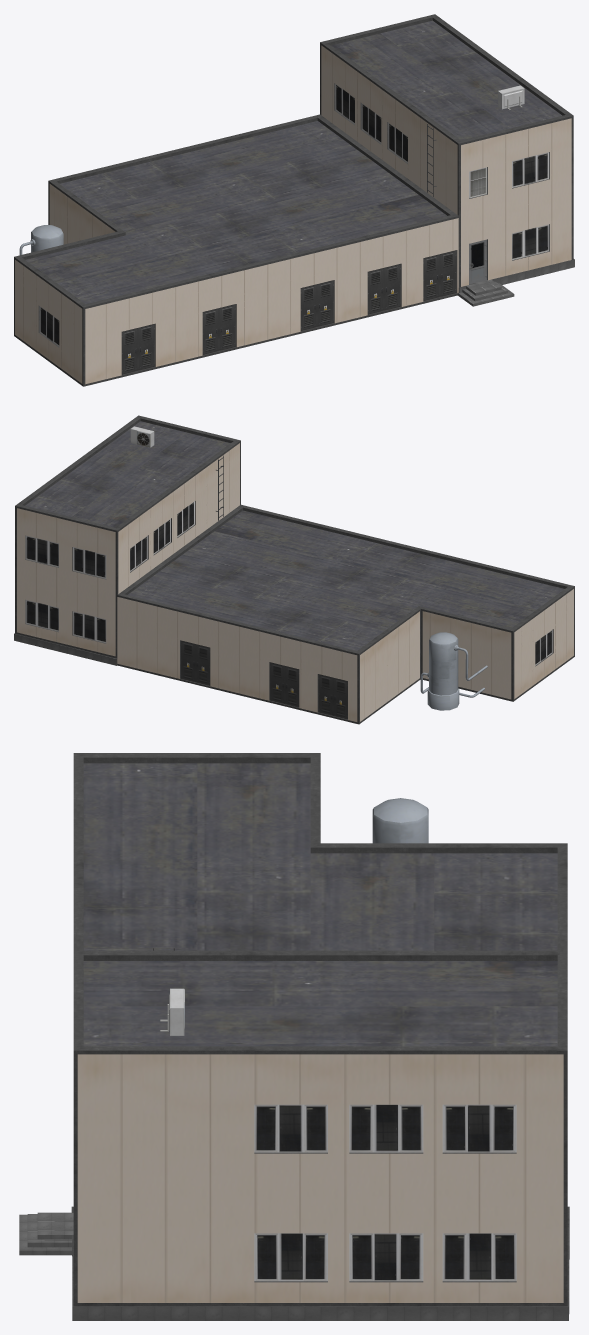
File: plant-building32.glb
3 renders of one model, top to bottom at view 1: azimuth 30°, elevation 25°; view 2: azimuth 150°, elevation 25°; view 3: azimuth 270°, elevation 25°, orthographic. The views are drawn at different scales.
Visible parts, largest first — view 1: Object8935819; view 2: Object8935819; view 3: Object8935819.
Part boxes in pixels (x1,y1,x2,y2): Object8935819: [14, 14, 574, 386]; Object8935819: [14, 415, 574, 724]; Object8935819: [19, 753, 569, 1320].
Size of the model in its own units: 25.53 by 8.17 by 13.92.
1 material, 1 textured.
